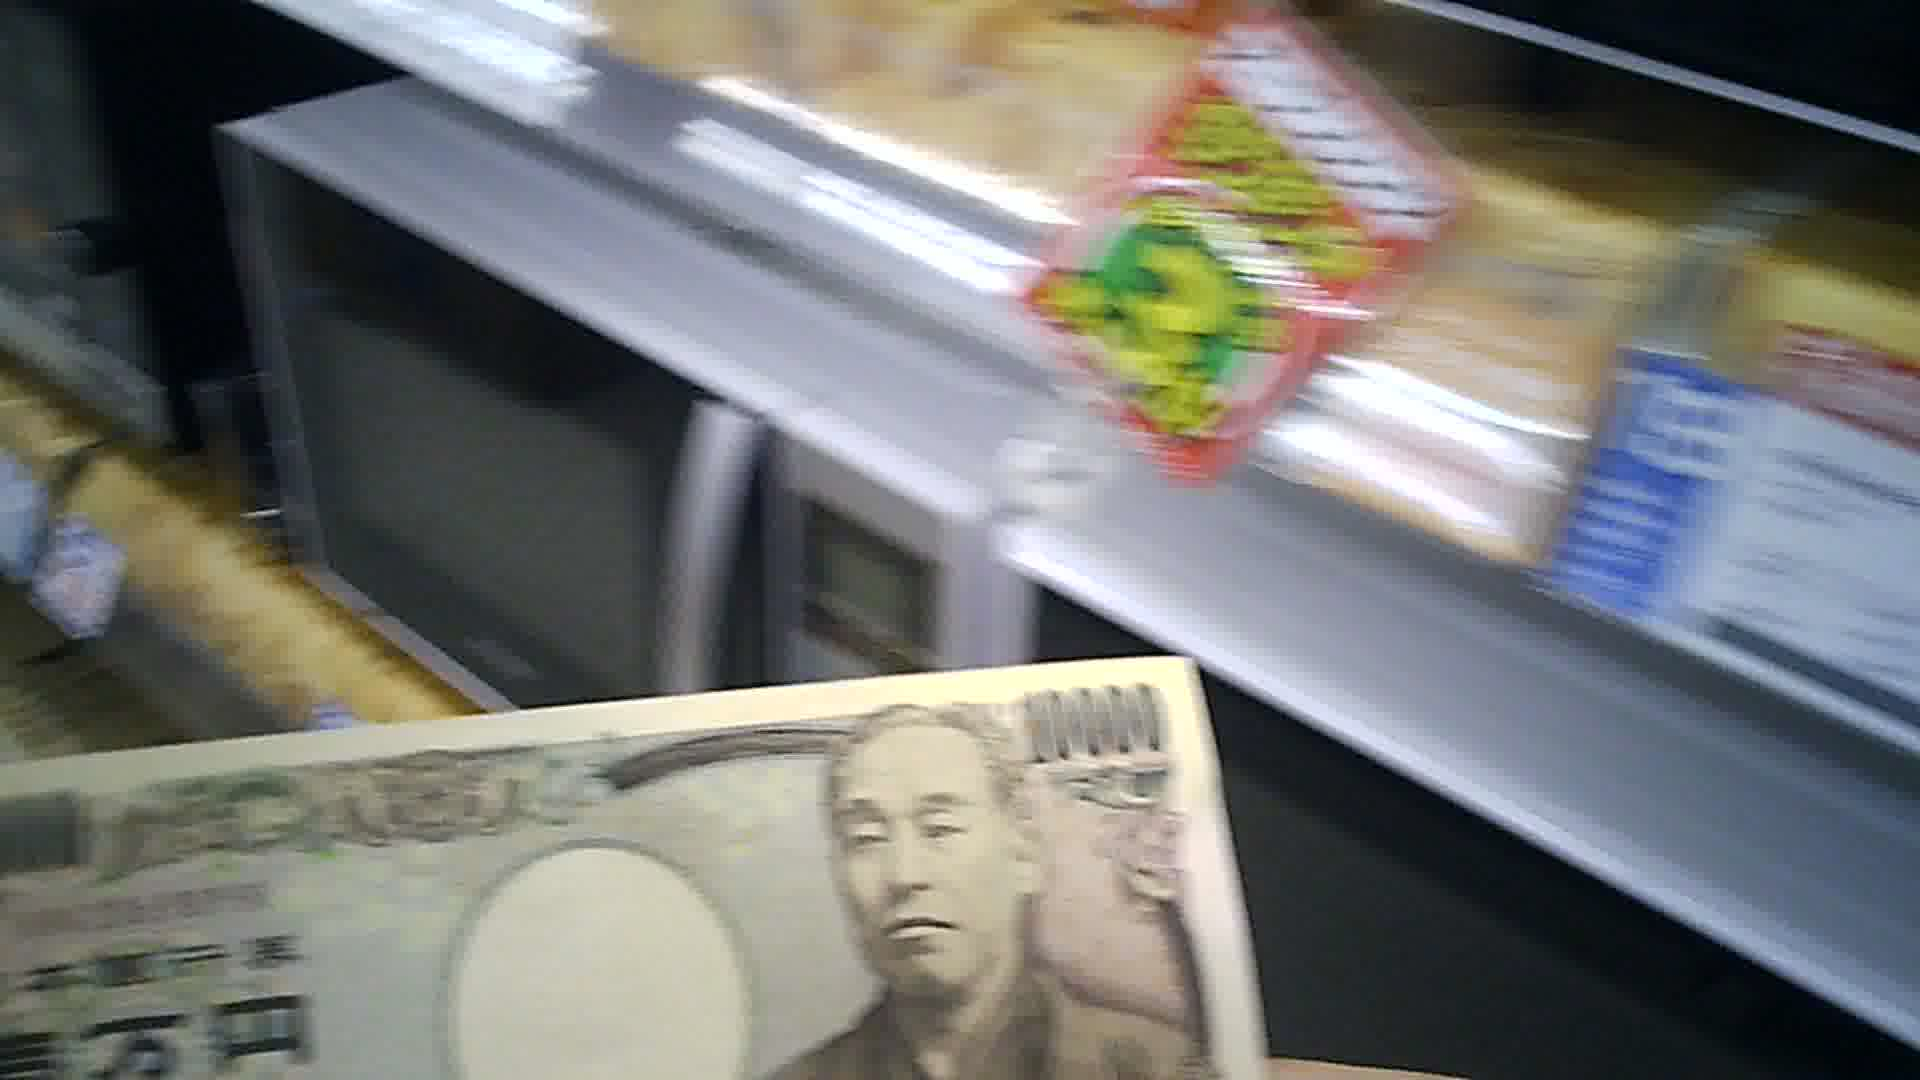10,000 Yen: (15, 644, 1324, 1077)
